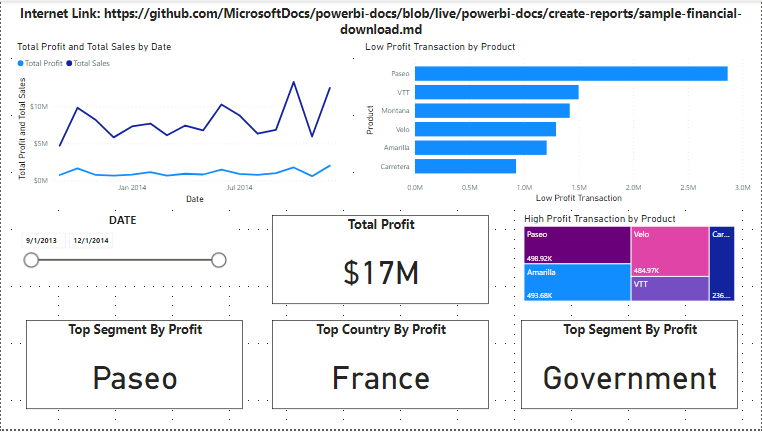

Layout of this report page (visuals, bound fields, positions):
{"tool":"powerbi","page":{"name":"PROFITS","canvas":[1280,720],"ordinal":2},"visuals":[{"type":"lineStackedColumnComboChart","fields":{"Y2":["Key Measures.Total Profit","Key Measures.Total Sales"],"Category":["financials.Date"]},"box":[21.9,65.7,559.2,279.6],"z":0},{"type":"slicer","title":"DATE","fields":{"Values":["financials.Date"]},"box":[21.9,355.4,365.5,122.9],"z":1000},{"type":"card","title":"Total Profit","fields":{"Values":["Key Measures.Total Profit"]},"box":[456.4,360.4,365.5,149.9],"z":2000},{"type":"card","title":"Top Country By Profit","fields":{"Values":["Min(financials.Country)"]},"box":[456.4,537.3,365.5,149.9],"z":3000},{"type":"card","title":"Top Segment By Profit","fields":{"Values":["Min(financials.Segment)"]},"box":[875.8,537.3,365.5,149.9],"z":4000},{"type":"card","title":"Top Segment By Profit","fields":{"Values":["Min(financials.Product)"]},"box":[42.1,537.3,365.5,149.9],"z":5000},{"type":"treemap","fields":{"Group":["financials.Product"],"Values":["Key Measures.High Profit Transaction"]},"box":[875.8,355.4,365.5,154.9],"z":6000},{"type":"barChart","fields":{"Category":["financials.Product"],"Y":["Key Measures.Low Profit Transaction"]},"box":[608,65.7,660.2,279.6],"z":7000},{"type":"textbox","box":[0,0,1280,65.7],"z":8000}]}

Visuals, with their boxes in screenshot pixels (x1, y1, x2, y2), scaled from the page's 1280x720 canvas onto the 762x432 screenshot:
lineStackedColumnComboChart - Key Measures.Total Profit x Key Measures.Total Sales: [left=13, top=39, right=346, bottom=207]
"DATE" slicer: [left=13, top=213, right=231, bottom=287]
"Total Profit" card: [left=272, top=216, right=489, bottom=306]
"Top Country By Profit" card: [left=272, top=322, right=489, bottom=412]
"Top Segment By Profit" card: [left=521, top=322, right=739, bottom=412]
"Top Segment By Profit" card: [left=25, top=322, right=243, bottom=412]
treemap - financials.Product x Key Measures.High Profit Transaction: [left=521, top=213, right=739, bottom=306]
barChart - financials.Product x Key Measures.Low Profit Transaction: [left=362, top=39, right=755, bottom=207]
textbox: [left=0, top=0, right=761, bottom=39]
